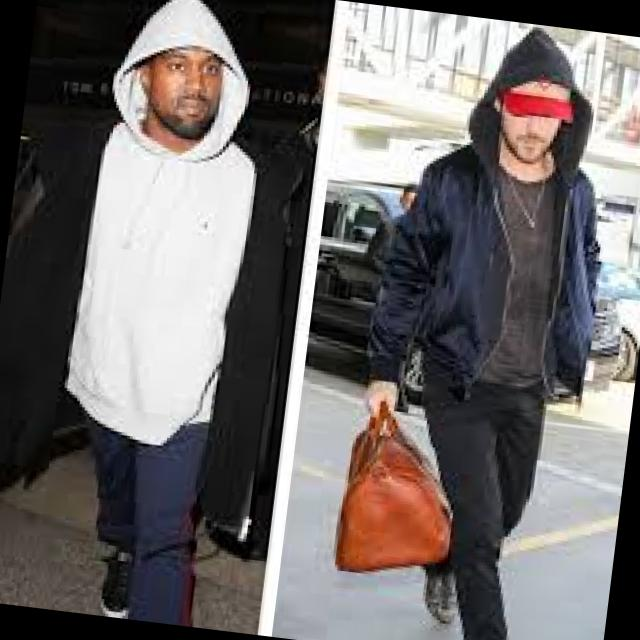Jacket: (0, 96, 311, 502), (364, 129, 627, 416)
